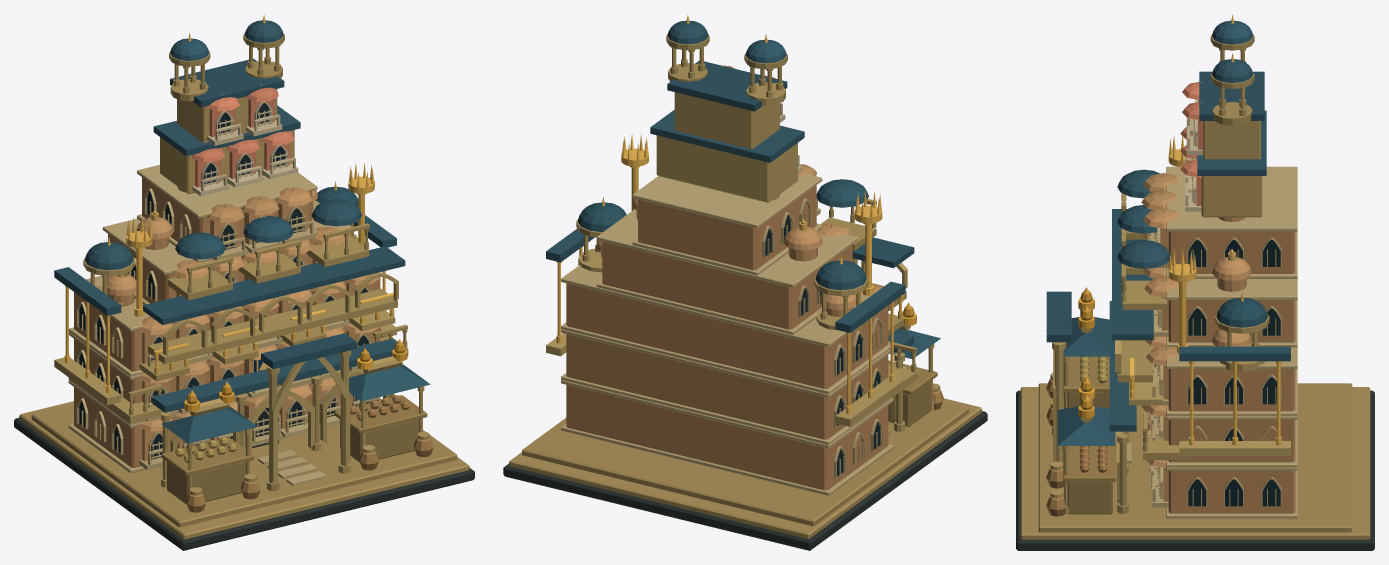
3 renders of one model, left to right at view 1: azimuth 30°, elevation 25°; view 2: azimuth 150°, elevation 25°; view 3: azimuth 270°, elevation 25°, orthographic. The views are drawn at different scales.
Parts seen in each view (by area): view 1: market_L14_0, market_L14_1; view 2: market_L14_0, market_L14_1; view 3: market_L14_0, market_L14_1.
Part boxes in pixels (box(x1,y1,x2,y2)): market_L14_0: box(14, 20, 474, 550); market_L14_1: box(64, 14, 407, 411); market_L14_0: box(503, 20, 987, 550); market_L14_1: box(556, 15, 916, 413); market_L14_0: box(1016, 20, 1374, 550); market_L14_1: box(1078, 15, 1281, 445).
Bounding box in the file's own units: 5.6 × 7.63 × 5.6.
